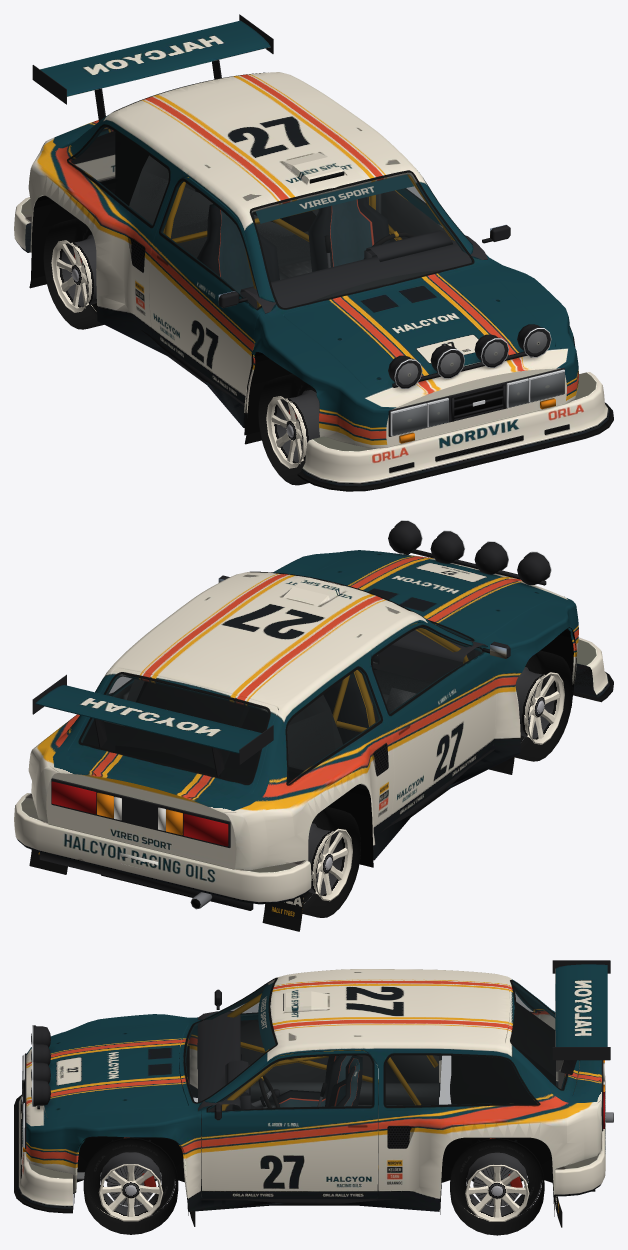
The model's file is vireo-rally-lod.glb.
3 views of the same model, one above another, from view 1: azimuth 30°, elevation 25°; view 2: azimuth 150°, elevation 25°; view 3: azimuth 270°, elevation 25° (orthographic). The views are drawn at different scales.
Parts seen in each view (by area): view 1: body_shell, windscreen, hood_skin, door_r_skin, bumper_front, wing_blade, door_r_glass, dash_top, wheel_fr, wheel_rr, quarter_glass, bulkhead (+23 smaller); view 2: body_shell, door_r_skin, hood_skin, bumper_rear, rear_glass, rear_bay, tail_panel, quarter_glass, wing_blade, wheel_fr, wheel_rr, door_r_glass (+24 smaller); view 3: body_shell, door_l_skin, hood_skin, wheel_rl, wheel_fl, quarter_glass, door_l_glass, windscreen, rear_bay, wing_blade, dash_top, rear_glass (+24 smaller).
Part boxes in pixels (<box>): body_shell: <box>28,72,578,448</box>; windscreen: <box>252,173,471,307</box>; hood_skin: <box>284,266,555,390</box>; door_r_skin: <box>149,177,264,403</box>; bumper_front: <box>301,372,609,486</box>; wing_blade: <box>40,20,270,96</box>; door_r_glass: <box>161,181,260,308</box>; dash_top: <box>240,235,487,313</box>; wheel_fr: <box>258,374,319,485</box>; wheel_rr: <box>43,218,103,329</box>; quarter_glass: <box>69,126,168,225</box>; bulkhead: <box>129,155,318,267</box>; body_shell: <box>28,550,578,870</box>; door_r_skin: <box>370,622,495,822</box>; hood_skin: <box>308,551,555,639</box>; bumper_rear: <box>14,793,311,904</box>; rear_glass: <box>81,674,268,782</box>; rear_bay: <box>115,681,278,782</box>; tail_panel: <box>46,773,236,869</box>; quarter_glass: <box>108,669,380,783</box>; wing_blade: <box>35,685,261,753</box>; wheel_fr: <box>514,650,572,761</box>; wheel_rr: <box>302,807,360,917</box>; door_r_glass: <box>373,627,482,713</box>; body_shell: <box>26,969,601,1211</box>; door_l_skin: <box>201,1050,377,1198</box>; hood_skin: <box>44,1023,188,1118</box>; wheel_rl: <box>450,1138,544,1235</box>; wheel_fl: <box>83,1137,178,1234</box>; quarter_glass: <box>386,988,537,1105</box>; door_l_glass: <box>208,1055,372,1111</box>; windscreen: <box>185,980,275,1101</box>; rear_bay: <box>451,1002,555,1177</box>; wing_blade: <box>555,964,607,1046</box>; dash_top: <box>198,1011,240,1136</box>; rear_glass: <box>512,982,565,1088</box>.
Size of the model in its own units: 2.07 by 1.38 by 4.13.
Materials: 5 (4 with a texture image).
